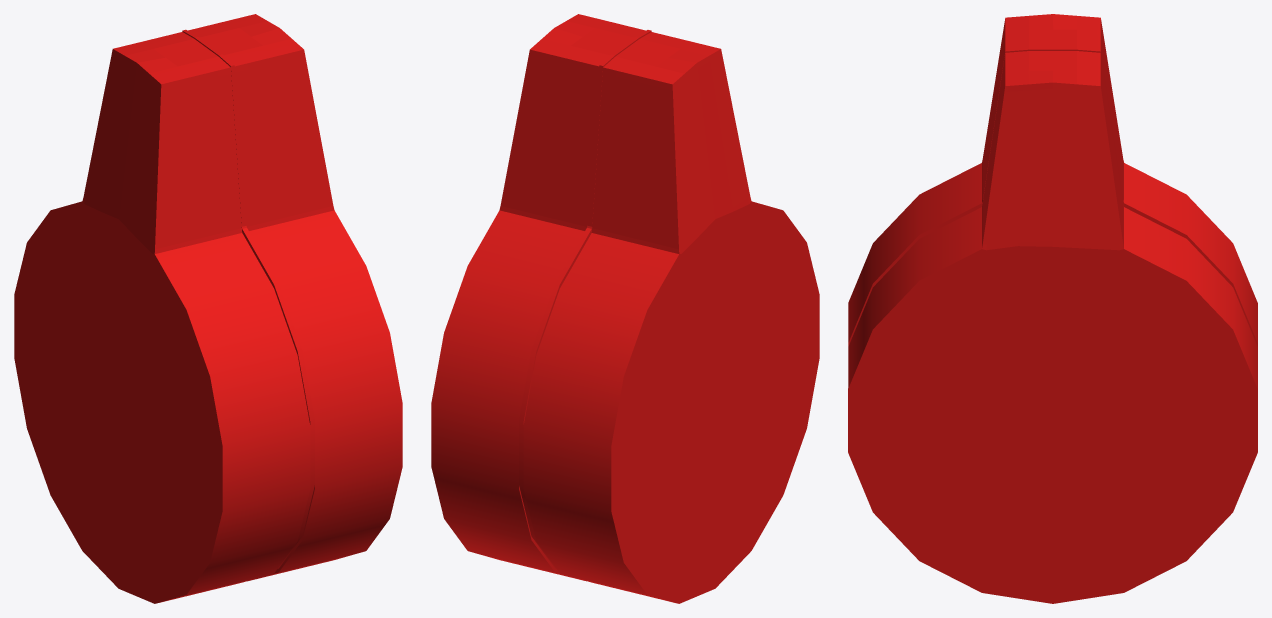
The model's file is SwitchOnOff.fbx.
The picture shows the model from 3 angles, left to right: view 1: azimuth 30°, elevation 25°; view 2: azimuth 150°, elevation 25°; view 3: azimuth 270°, elevation 25°; orthographic projection.
Parts seen in each view (by area): view 1: switch.001; view 2: switch.001; view 3: switch.001.
Boxes of the visible parts, x1,y1,x2,y2 form: switch.001: (14,14,402,603); switch.001: (431,14,819,603); switch.001: (848,14,1257,603).
Bounding box in the file's own units: 23.52 × 65.16 × 47.2.
